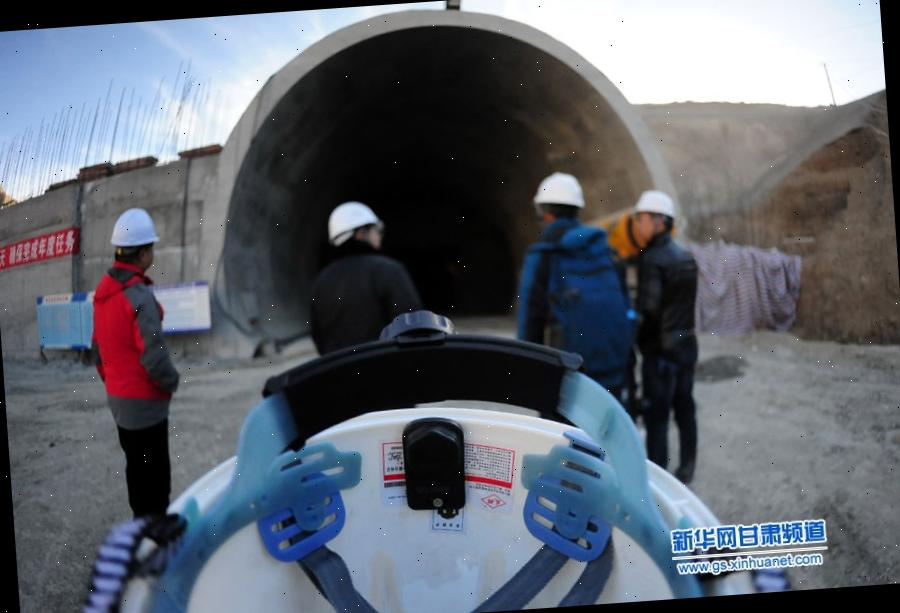helmet: (322, 197, 382, 244), (107, 202, 168, 247), (534, 167, 589, 210), (632, 184, 680, 218)
no_wear: (517, 221, 634, 372), (306, 250, 413, 354), (630, 240, 702, 358)
wear: (84, 266, 174, 426)
